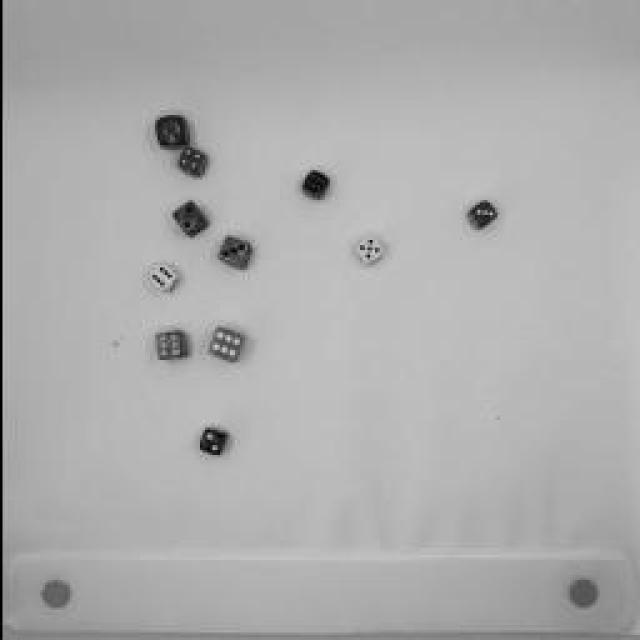dice_2: (169, 200, 209, 240), (195, 428, 230, 458)
dice_3: (212, 235, 252, 275), (462, 198, 500, 234), (151, 114, 191, 148)
dice_4: (174, 148, 206, 182)
dice_5: (350, 235, 385, 270)
dice_6: (207, 325, 245, 367), (150, 330, 190, 368), (145, 261, 180, 299), (296, 168, 332, 204)
